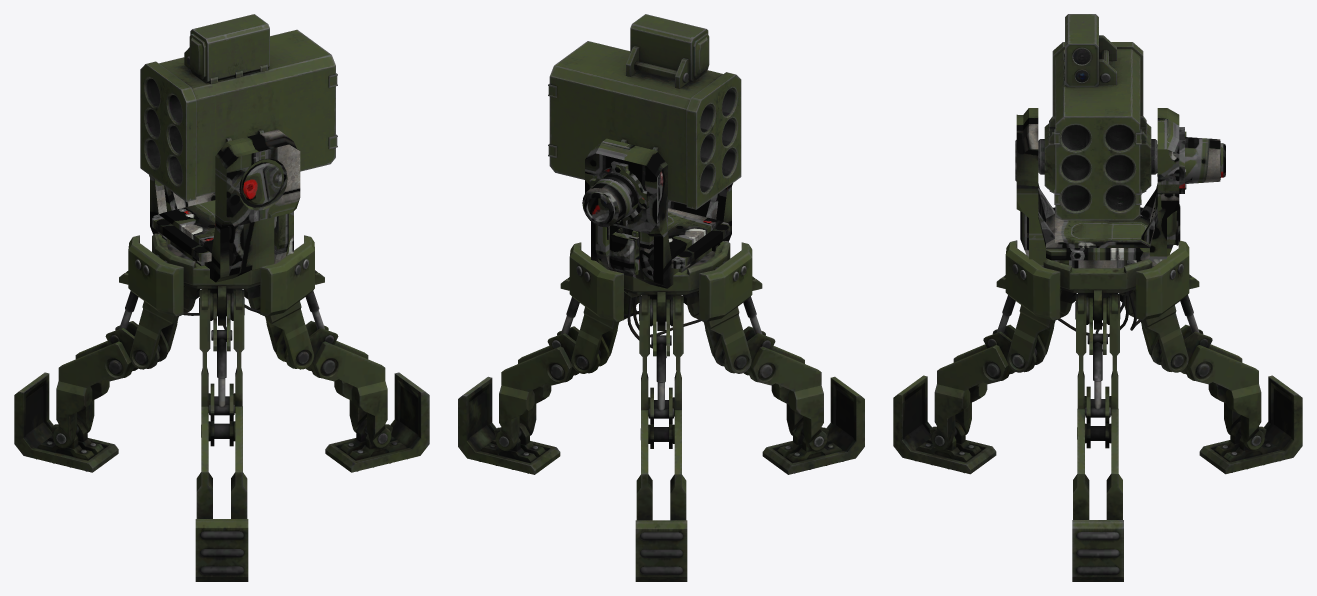
File: Missile_Turret1.fbx
3 views of the same model, side by side, from view 1: azimuth 30°, elevation 25°; view 2: azimuth 150°, elevation 25°; view 3: azimuth 270°, elevation 25° (orthographic). The views are drawn at different scales.
Parts seen in each view (by area): view 1: S_Base, S_Head_Missile, S_Mount; view 2: S_Base, S_Head_Missile, S_Mount; view 3: S_Base, S_Head_Missile, S_Mount.
Boxes of the visible parts, x1,y1,x2,y2 form: S_Base: (14, 233, 429, 581); S_Head_Missile: (140, 14, 337, 201); S_Mount: (149, 129, 300, 282); S_Base: (458, 241, 864, 581); S_Head_Missile: (548, 14, 741, 209); S_Mount: (582, 138, 732, 288); S_Base: (893, 240, 1302, 581); S_Head_Missile: (1038, 14, 1157, 220); S_Mount: (1015, 108, 1225, 268).
Bounding box in the file's own units: 137 × 197 × 156.
